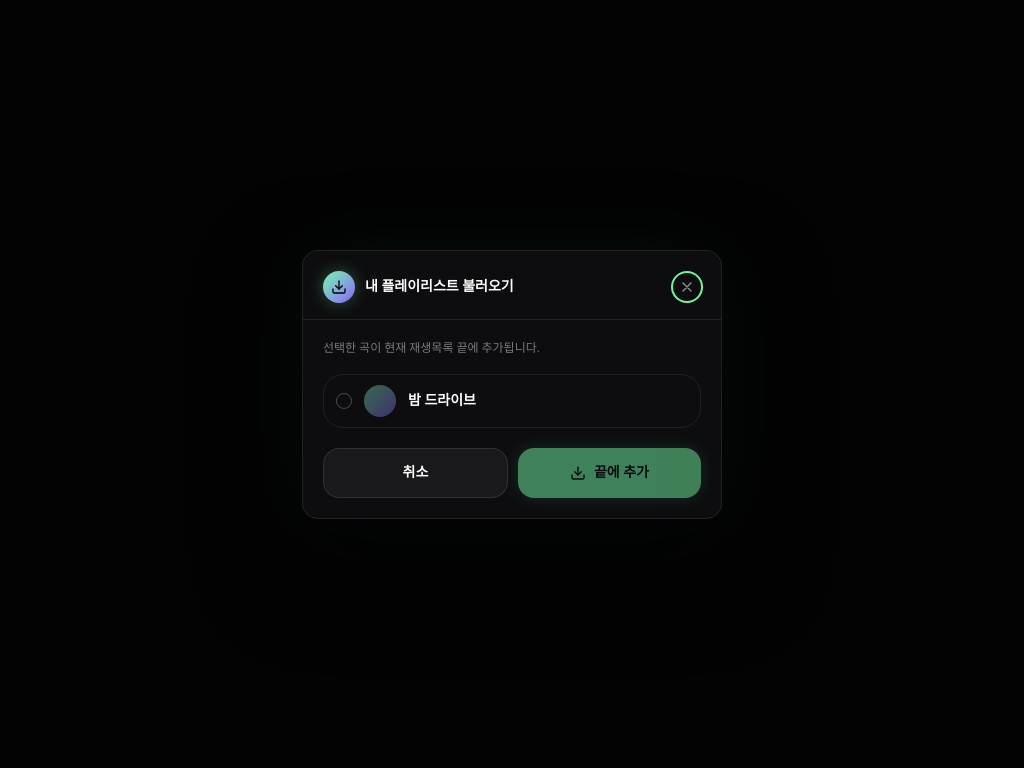
it: ImportToRoomDialog › 곡이 있는 플레이리스트를 선택하면 personalPlaylistId로 불러오기를 요청한다
Step 1. Click the button "밤 드라이브" → (380, 400), box x1=323 y1=374 x2=701 y2=428
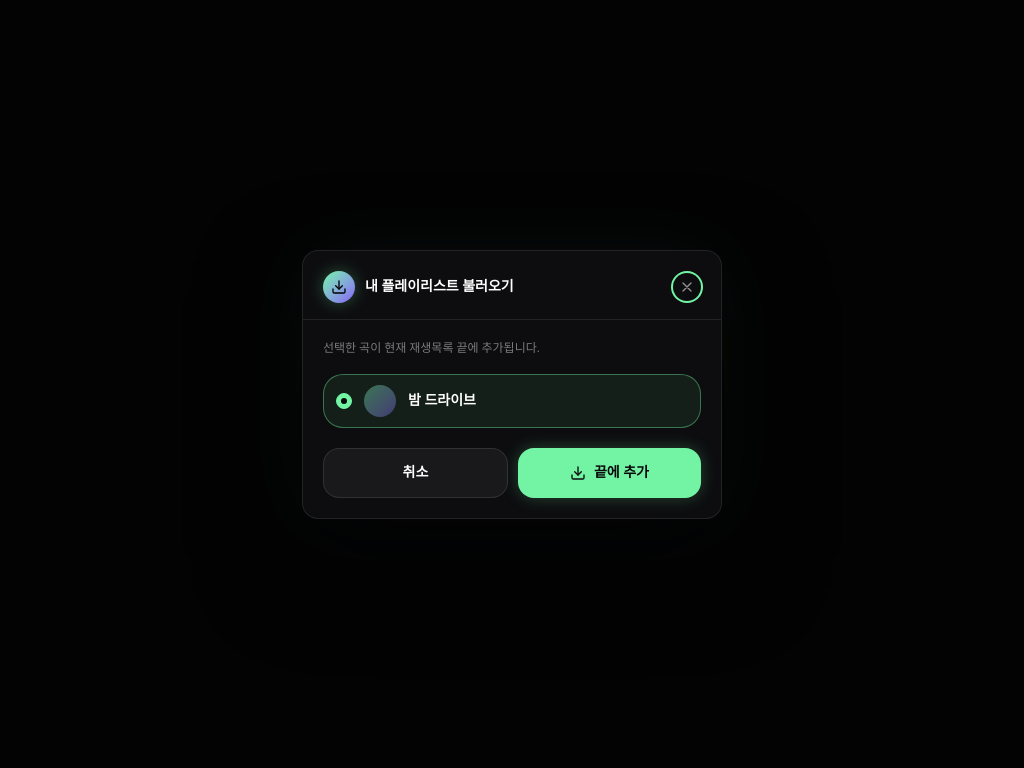
Step 2. Click the button "끝에 추가" → (610, 472), box x1=518 y1=448 x2=701 y2=498
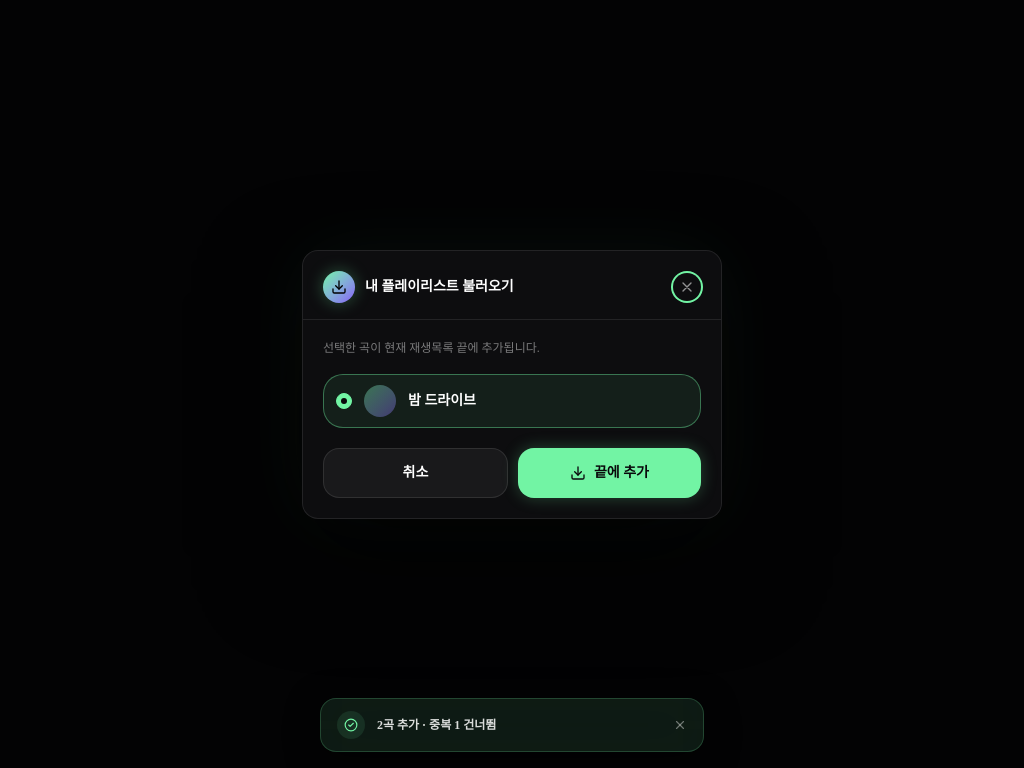
Now the text "2곡 추가 · 중복 1 건너뜀" is shown, box x1=377 y1=718 x2=496 y2=732
